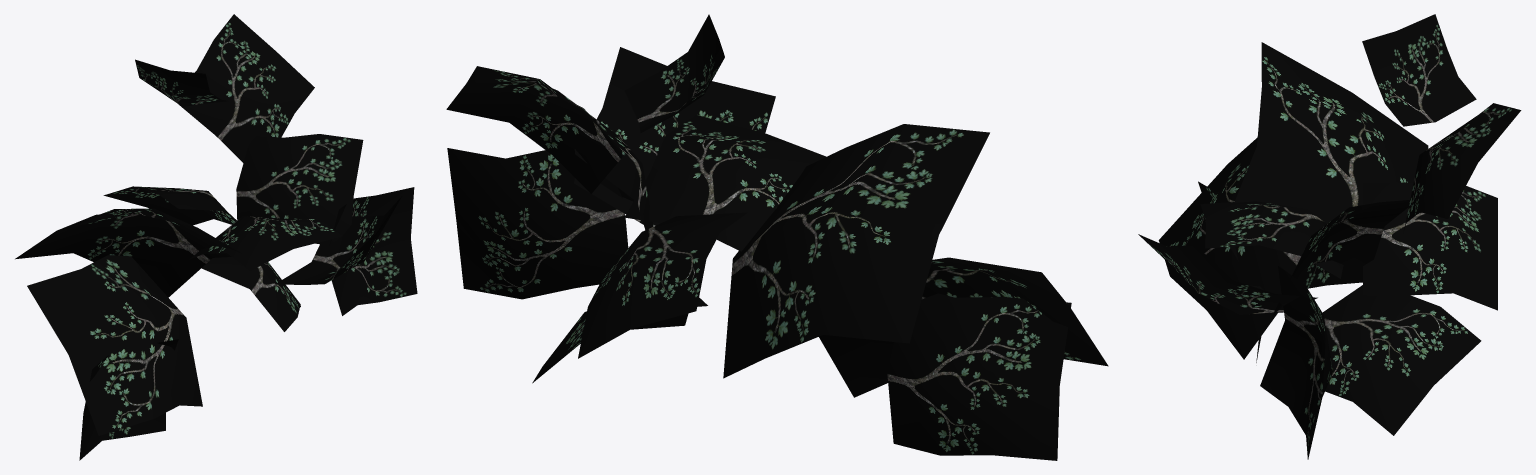
The model's file is tree2_branch.obj.
3 renders of one model, left to right at view 1: azimuth 30°, elevation 25°; view 2: azimuth 150°, elevation 25°; view 3: azimuth 270°, elevation 25°, orthographic. The views are drawn at different scales.
Visible parts, largest first — view 1: Mesh; view 2: Mesh; view 3: Mesh.
Boxes of the visible parts, bbox=[...] form: Mesh: bbox=[15, 14, 417, 460]; Mesh: bbox=[446, 14, 1108, 460]; Mesh: bbox=[1138, 14, 1521, 459].
Bounding box in the file's own units: 3.59 × 2.66 × 2.46.
